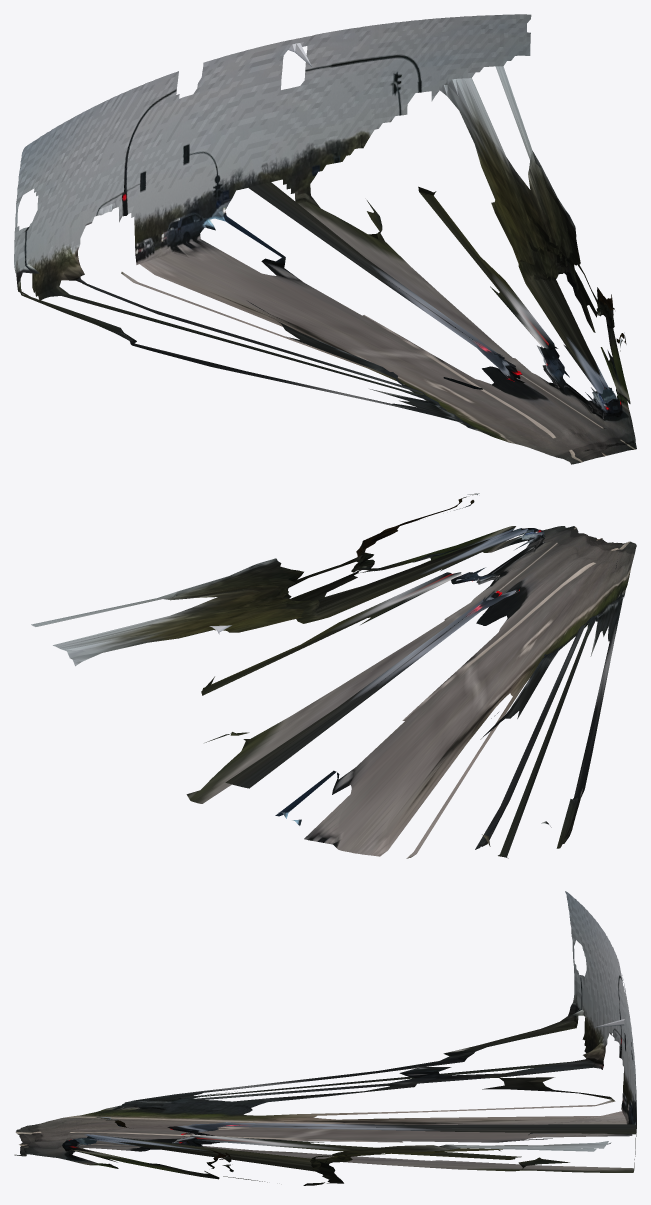
3 renders of one model, top to bottom at view 1: azimuth 30°, elevation 25°; view 2: azimuth 150°, elevation 25°; view 3: azimuth 270°, elevation 25°, orthographic. The views are drawn at different scales.
Parts seen in each view (by area): view 1: defaultobject; view 2: defaultobject; view 3: defaultobject.
Boxes of the visible parts, box(x1,y1,x2,y2) form: defaultobject: box(14, 14, 636, 464); defaultobject: box(31, 493, 636, 858); defaultobject: box(14, 891, 636, 1185).
Bounding box in the file's own units: 38.58 × 13.41 × 44.77.
Materials: 1 (1 with a texture image).
